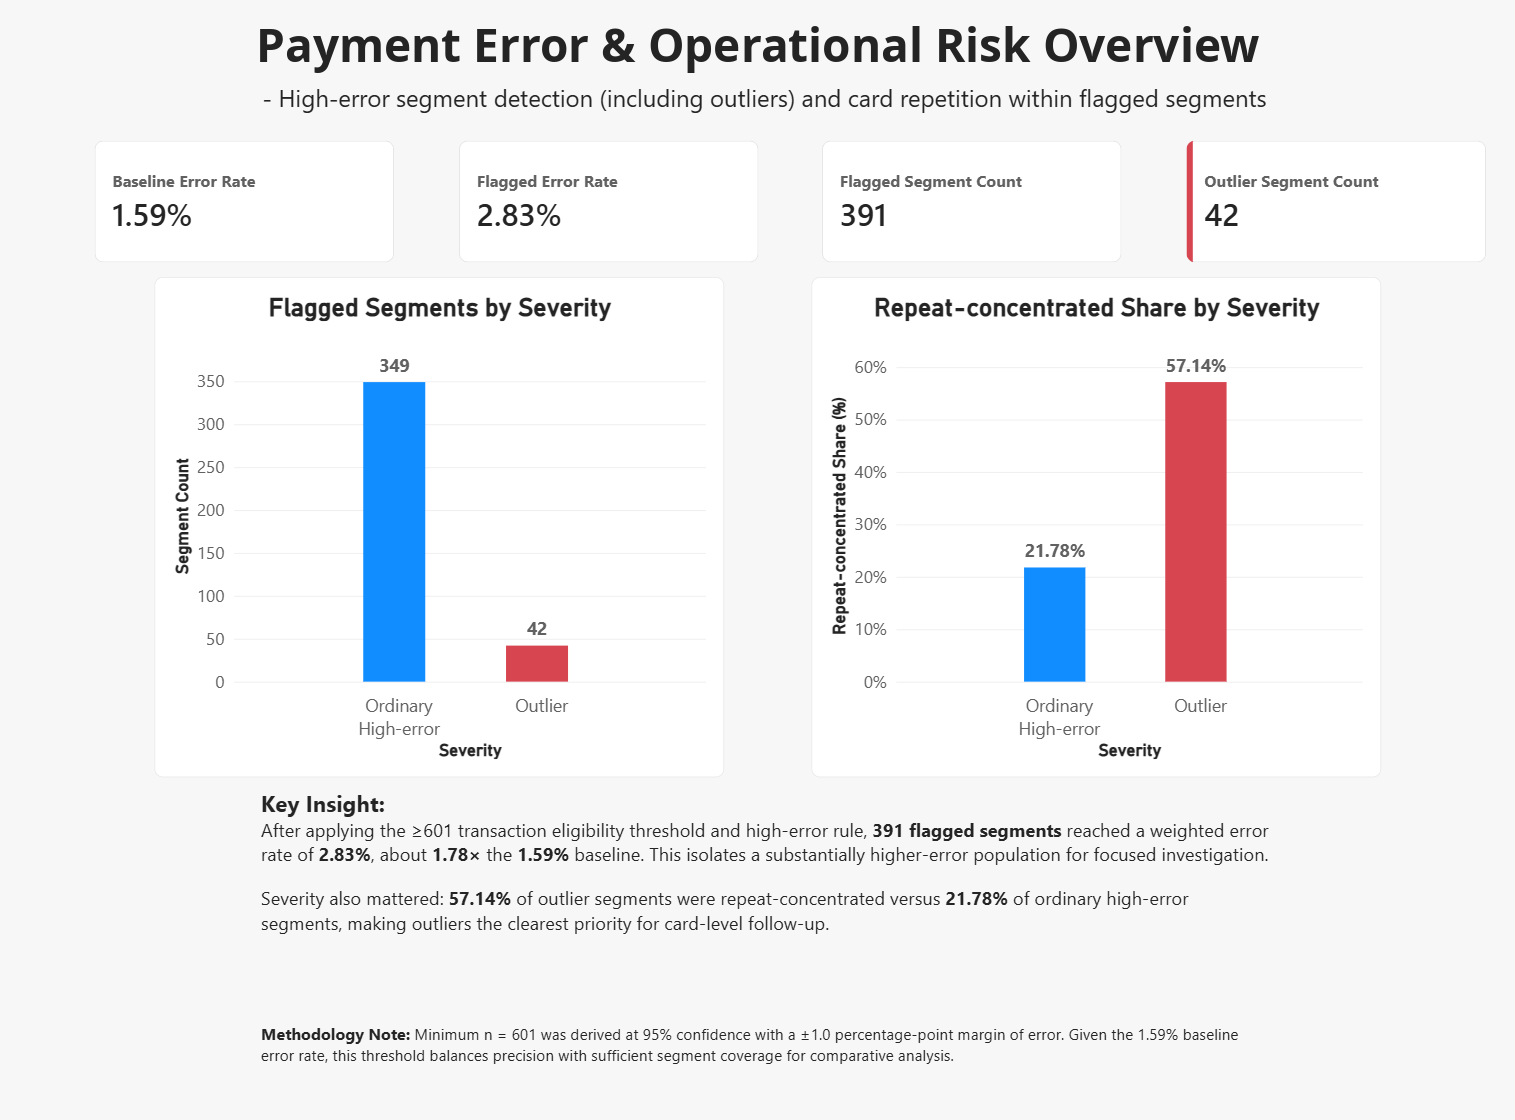

This screenshot's page, from the dashboard's own definition file:
{"tool":"powerbi","page":{"name":"01 Executive Overview","canvas":[1920,1080],"ordinal":0},"visuals":[{"type":"cardVisual","fields":{"Data":["Dax_Measures.Outlier Segment Count"]},"box":[1428,138,285,116],"z":0},{"type":"cardVisual","fields":{"Data":["Dax_Measures.Baseline Error Rate"]},"box":[390,138,285,116],"z":1000},{"type":"cardVisual","fields":{"Data":["Dax_Measures.Flagged Error Rate"]},"box":[736,138,285,116],"z":2000},{"type":"cardVisual","fields":{"Data":["Dax_Measures.Flagged Segment Count"]},"box":[1082,138,285,116],"z":3000},{"type":"clusteredColumnChart","title":"Flagged Segments by Severity","fields":{"Category":["Q4 Segment Analysis.Severity Label"],"Y":["Dax_Measures.Flagged Segment Count"]},"box":[446.5,268,542,476],"z":4000},{"type":"clusteredColumnChart","title":"Repeat-concentrated Share by Severity","fields":{"Category":["Q4 Segment Analysis.Severity Label"],"Y":["Dax_Measures.Repeat-concentrated Share by Severity"]},"box":[1071.5,268,542,476],"z":5000},{"type":"textbox","box":[548,754,960,186],"z":6000},{"type":"textbox","box":[470,25,1115,113.3],"z":7000},{"type":"textbox","box":[548,977,960,78],"z":8000}]}

Visuals, with their boxes on the page's 1920x1080 design canvas (x1, y1, x2, y2). These are canvas units, not pixel positions in the 1515x1120 screenshot, which may show the page scaled, cropped or inside an application window:
cardVisual - Dax_Measures.Outlier Segment Count: Rect(1428, 138, 1713, 254)
cardVisual - Dax_Measures.Baseline Error Rate: Rect(390, 138, 675, 254)
cardVisual - Dax_Measures.Flagged Error Rate: Rect(736, 138, 1021, 254)
cardVisual - Dax_Measures.Flagged Segment Count: Rect(1082, 138, 1367, 254)
"Flagged Segments by Severity" clusteredColumnChart: Rect(446, 268, 988, 744)
"Repeat-concentrated Share by Severity" clusteredColumnChart: Rect(1072, 268, 1614, 744)
textbox: Rect(548, 754, 1508, 940)
textbox: Rect(470, 25, 1585, 138)
textbox: Rect(548, 977, 1508, 1055)
